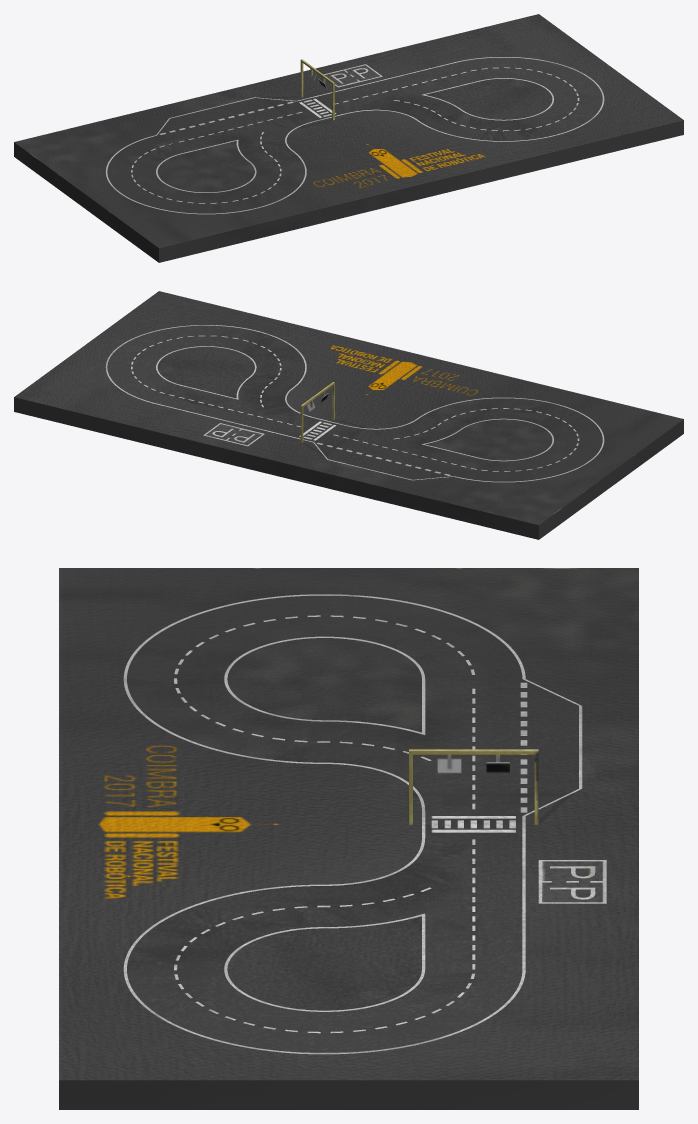
3 renders of one model, top to bottom at view 1: azimuth 30°, elevation 25°; view 2: azimuth 150°, elevation 25°; view 3: azimuth 270°, elevation 25°, orthographic. The views are drawn at different scales.
Visible parts, largest first — view 1: mesh_1_CAField; view 2: mesh_1_CAField; view 3: mesh_1_CAField.
Boxes of the visible parts, x1,y1,x2,y2 form: mesh_1_CAField: [14, 14, 683, 262]; mesh_1_CAField: [14, 291, 683, 539]; mesh_1_CAField: [59, 568, 638, 1109].
Bounding box in the file's own units: 18.7 × 8.95 × 1.76.
1 material, 1 textured.
